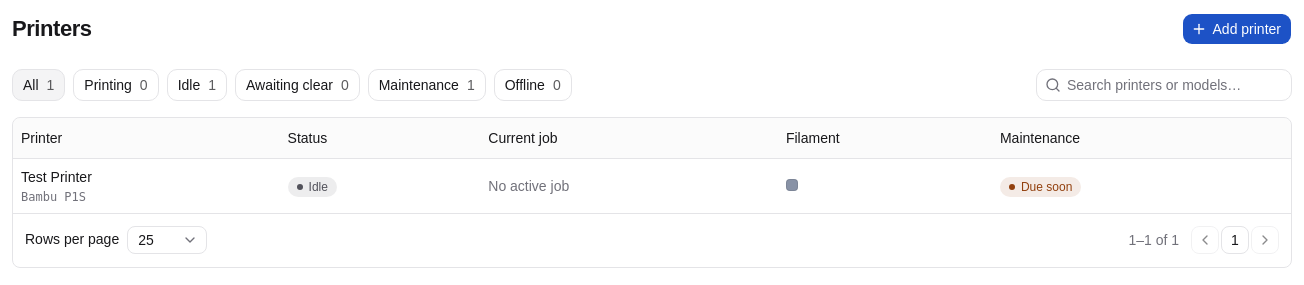
Test: PrintersPage › renders the fleet list with status and reachability
The width and height of the screenshot is (1304, 285).
Expected: the link "Test Printer" is shown, [21,168,92,184]
Expected: the icon "Idle" is shown, [288,176,337,196]
Type "missing" into the field named "Search printers by name or model". click: (1176, 85)
box: [1061,69,1291,101]
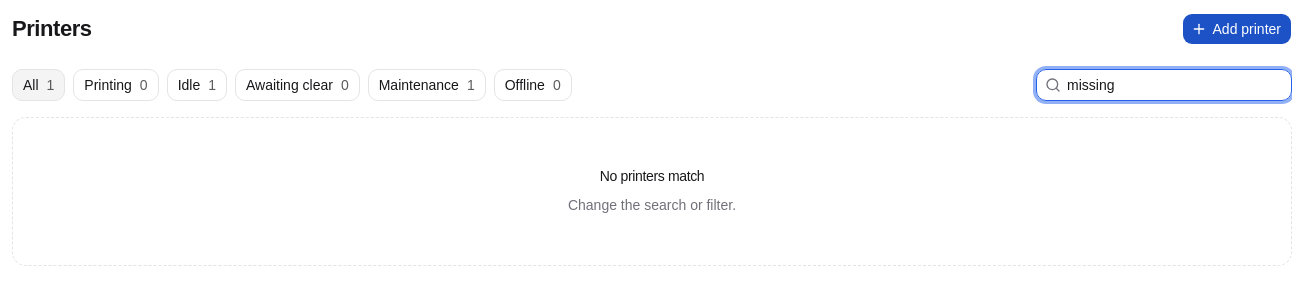
Now the text "No printers match" is shown, box [600,166,704,186]
Replace the text in the field named "Search printers by name or model" with "P1S". click: (1176, 85)
box: [1061,69,1291,101]
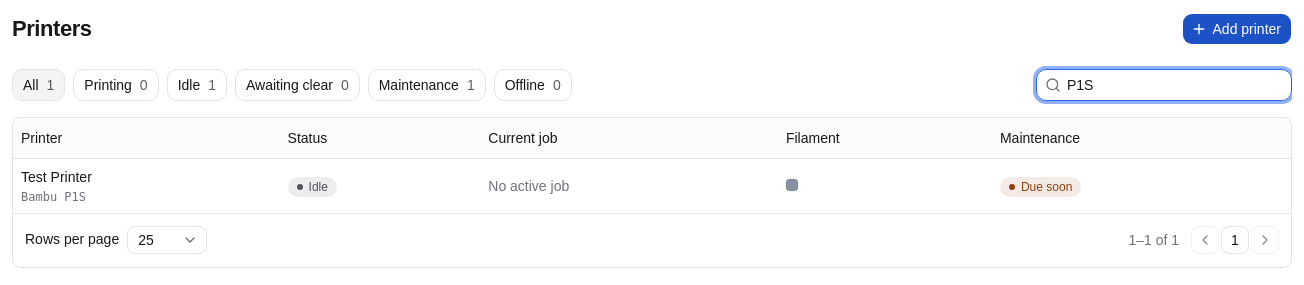
Now the table shows "Test Printer", box [21,166,272,186]
Click the radio button labelled "Printing 0". click: (116, 85)
box: [73,69,159,101]
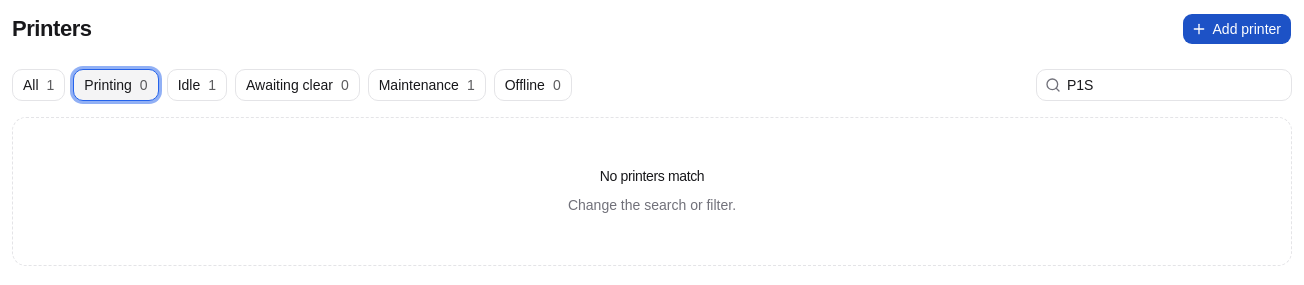
Now the text "No printers match" is shown, box [600,166,704,186]
Click the radio button labelled "All 1". click: (39, 85)
box: [12,69,65,101]
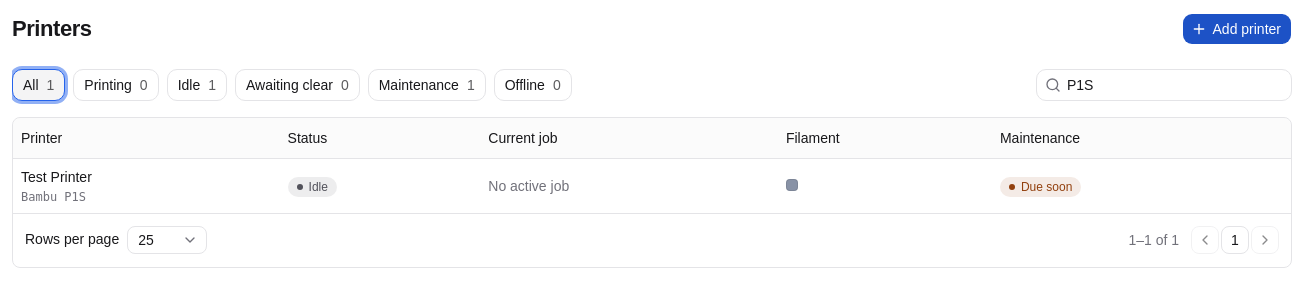
Now the table shows "Test Printer", box [21,166,272,186]
